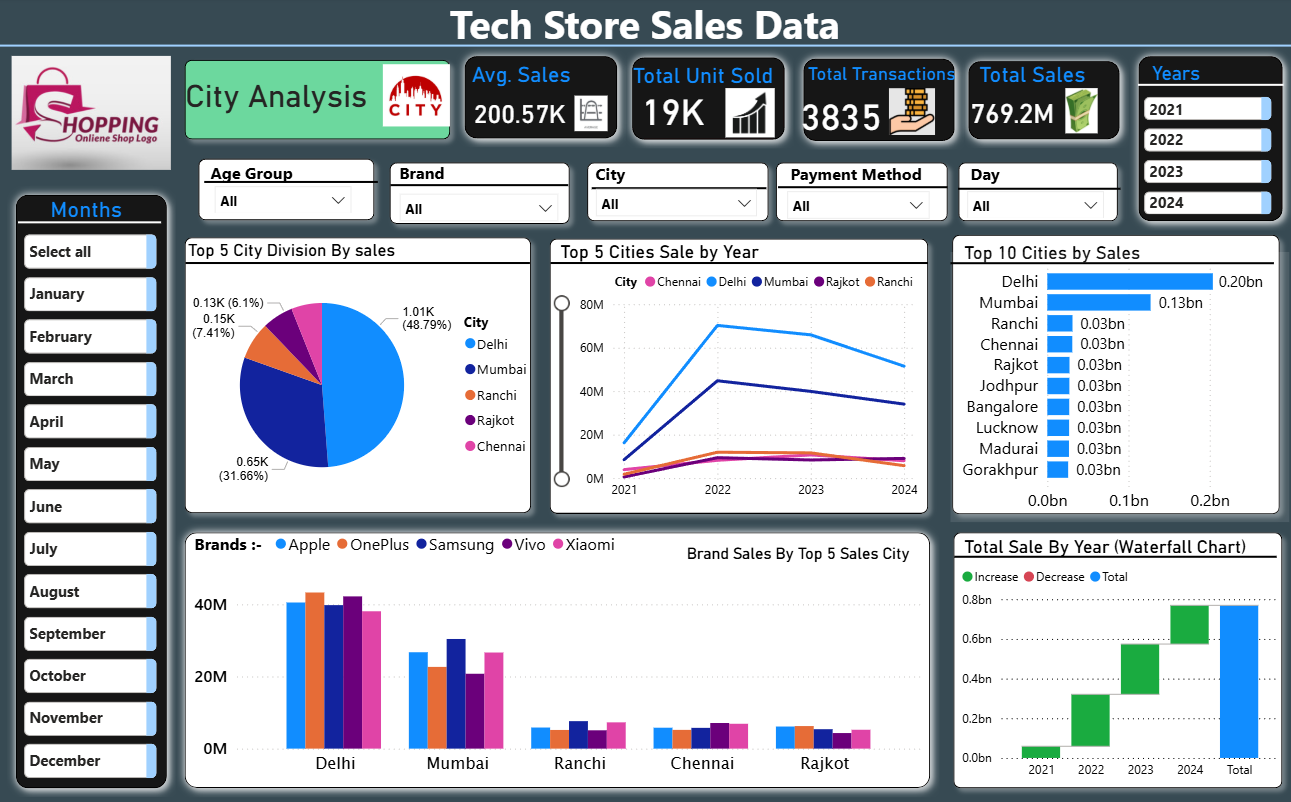

The dashboard page shown, as its layout file describes it:
{"tool":"powerbi","page":{"name":"City Analysis","canvas":[1280,800],"ordinal":1},"visuals":[{"type":"shape","title":"Tech Store Sales Data","box":[0,0,1280,53.7],"z":0},{"type":"shape","box":[0,27.4,1280,41.8],"z":1000},{"type":"image","box":[8.4,48.9,167,130],"z":2000},{"type":"shape","title":"Months","box":[8.2,186.6,167.4,605.1],"z":3000},{"type":"advancedSlicerVisual","fields":{"Values":["Mobile Sales Data.Date.Variation.Date Hierarchy.Month"]},"box":[20.6,230.5,141.3,551.6],"z":4000},{"type":"shape","title":"Months","box":[52.5,198,109.7,32.2],"z":5000},{"type":"shape","box":[20.3,214.7,142,15.5],"z":6000},{"type":"shape","box":[936.6,520.8,343.6,271.3],"z":7000},{"type":"shape","box":[175.9,53.2,280.8,96.8],"z":8000},{"type":"shape","box":[175.6,229.2,360.9,290.9],"z":9000},{"type":"shape","box":[189.5,151.3,192.2,79.1],"z":10000},{"type":"shape","title":"Months","box":[619,50.4,169.1,99.5],"z":11000},{"type":"shape","title":"Months","box":[1119.3,49.1,160.9,181.3],"z":12000},{"type":"card","fields":{"Values":["Sum(Mobile Sales Data.Units Sold)"]},"box":[627.1,77.7,81.8,66.8],"z":13000},{"type":"image","box":[703.5,85.9,80.4,58.6],"z":14000},{"type":"shape","title":"Total Unit Sold","box":[628.5,65.4,150,28.6],"z":15000},{"type":"shape","title":"Months","box":[788,51.8,167.7,99.5],"z":16000},{"type":"card","fields":{"Values":["Count(Mobile Sales Data.Transaction ID)"]},"box":[788,88.6,94.1,53.2],"z":17000},{"type":"image","box":[872.5,85.9,64.1,55.9],"z":18000},{"type":"shape","title":"Total Transactions","box":[801.6,65.4,150,21.8],"z":19000},{"type":"shape","title":"Months","box":[951.6,54.5,167.7,95.4],"z":20000},{"type":"card","fields":{"Values":["Sum(Mobile Sales Data.Sale)"]},"box":[951.6,87.3,105,53.2],"z":21000},{"type":"shape","title":"Total Sales","box":[970.7,64.1,150,21.8],"z":22000},{"type":"image","box":[1037.5,85.9,69.5,54.5],"z":23000},{"type":"slicer","fields":{"Values":["Mobile Sales Data.Age Group"]},"box":[204.5,177.2,155.4,36.8],"z":24000},{"type":"shape","title":"Months","box":[175.6,520.7,755.7,270.9],"z":25000},{"type":"shape","title":"Age Group","box":[210,162.2,151.3,24.5],"z":26000},{"type":"shape","box":[204.5,177.2,171.8,12.3],"z":27000},{"type":"shape","box":[379,154.1,196.3,79.1],"z":28000},{"type":"shape","title":"Brand","box":[396.7,162.2,150,24.5],"z":29000},{"type":"shape","box":[388.6,180,175.9,13.6],"z":30000},{"type":"slicer","fields":{"Values":["Mobile Sales Data.Brand"]},"box":[387.2,184.1,177.2,38.2],"z":31000},{"type":"shape","box":[574,154.1,197.7,76.3],"z":32000},{"type":"shape","title":"City","box":[591.7,163.6,151.3,24.5],"z":33000},{"type":"shape","box":[587.6,182.7,173.1,12.3],"z":34000},{"type":"slicer","fields":{"Values":["Mobile Sales Data.City"]},"box":[580.8,180,180,42.3],"z":35000},{"type":"shape","box":[760.7,154.1,188.1,76.3],"z":36000},{"type":"shape","title":"Payment Method","box":[783.9,163.6,150,24.5],"z":37000},{"type":"shape","box":[771.6,180,167.7,17.7],"z":38000},{"type":"slicer","fields":{"Values":["Mobile Sales Data.Payment Method"]},"box":[770.3,181.3,160.9,45],"z":39000},{"type":"shape","box":[940.7,154.1,175.9,76.3],"z":40000},{"type":"shape","title":"Day","box":[962.5,163.6,84.5,25.9],"z":41000},{"type":"shape","box":[950.2,184.1,160.9,10.9],"z":42000},{"type":"slicer","fields":{"Values":["Mobile Sales Data.Day_Name_Cleaned"]},"box":[948.9,181.3,155.4,36.8],"z":43000},{"type":"advancedSlicerVisual","fields":{"Values":["Mobile Sales Data.Year"]},"box":[1128.8,94.1,136.3,128.2],"z":44000},{"type":"shape","title":"Years","box":[1141.1,64.1,75,21.8],"z":45000},{"type":"shape","box":[1128.5,78.7,144.3,15.5],"z":46000},{"type":"pieChart","fields":{"Y":["CountNonNull(Mobile Sales Data.Transaction ID)"],"Category":["Mobile Sales Data.City"]},"box":[175.9,261.8,361.3,244],"z":47000},{"type":"shape","title":"Top 5 City Division By sales","box":[188.1,239.9,302.7,23.2],"z":48000},{"type":"shape","box":[185.4,252.2,340.8,21.8],"z":49000},{"type":"shape","box":[935.2,226.3,342.2,294.5],"z":50000},{"type":"shape","title":"Top 10 Cities by Sales","box":[955.7,242.7,175.9,20.5],"z":51000},{"type":"shape","title":"Brand Sales By Top 5 Sales City","box":[681.7,541.2,230.4,32.7],"z":52000},{"type":"waterfallChart","fields":{"Category":["Mobile Sales Data.Date.Variation.Date Hierarchy.Year"],"Y":["Sum(Mobile Sales Data.Sale)"]},"box":[948.9,553.5,324.5,229],"z":53000},{"type":"shape","title":"Total Sale By Year (Waterfall Chart)","box":[955.7,533.1,287.7,21.8],"z":54000},{"type":"shape","box":[946.2,542.6,319,21.8],"z":55000},{"type":"shape","title":"City Analysis","box":[185.4,80.4,188.1,36.8],"z":56000},{"type":"image","box":[376.3,57.3,76.3,80.4],"z":57000},{"type":"clusteredBarChart","fields":{"Category":["Mobile Sales Data.City"],"Y":["Sum(Mobile Sales Data.Sale)"]},"box":[942.1,252.2,335.4,267.2],"z":58000},{"type":"clusteredColumnChart","fields":{"Category":["Mobile Sales Data.City"],"Y":["Sum(Mobile Sales Data.Sale)"],"Series":["Mobile Sales Data.Brand"]},"box":[189.2,519.5,731,263.5],"z":59000},{"type":"shape","box":[537.2,230.4,392.6,290.4],"z":60000},{"type":"shape","title":"Months","box":[452.6,49.1,169.1,99.5],"z":61000},{"type":"shape","title":"Avg. Sales","box":[469,64.1,150,28.6],"z":62000},{"type":"card","fields":{"Values":["Avg(Mobile Sales Data.Sale)"]},"box":[462.2,81.8,107.7,66.8],"z":63000},{"type":"image","box":[564.4,92.7,46.4,45],"z":64000},{"type":"shape","title":"Top 5 Cities Sale by Year","box":[557.1,241.5,329.3,22],"z":65000},{"type":"lineChart","fields":{"Category":["Mobile Sales Data.Date.Variation.Date Hierarchy.Year"],"Y":["Sum(Mobile Sales Data.Sale)"],"Series":["Mobile Sales Data.City"]},"box":[546.7,261.8,368.1,244],"z":66000},{"type":"shape","box":[546.7,252.2,373.6,21.8],"z":67000},{"type":"shape","box":[942.1,257.7,320.4,12.3],"z":68000}]}

Visuals, with their boxes in screenshot pixels (x1, y1, x2, y2), scaled from the page's 1280x800 canvas onto the 1291x802 screenshot:
"Tech Store Sales Data" shape: {"x1": 0, "y1": 0, "x2": 1290, "y2": 54}
shape: {"x1": 0, "y1": 27, "x2": 1290, "y2": 69}
image: {"x1": 8, "y1": 49, "x2": 177, "y2": 179}
"Months" shape: {"x1": 8, "y1": 187, "x2": 177, "y2": 794}
advancedSlicerVisual - Mobile Sales Data.Date.Variation.Date Hierarchy.Month: {"x1": 21, "y1": 231, "x2": 163, "y2": 784}
"Months" shape: {"x1": 53, "y1": 198, "x2": 164, "y2": 231}
shape: {"x1": 20, "y1": 215, "x2": 164, "y2": 231}
shape: {"x1": 945, "y1": 522, "x2": 1290, "y2": 794}
shape: {"x1": 177, "y1": 53, "x2": 461, "y2": 150}
shape: {"x1": 177, "y1": 230, "x2": 541, "y2": 521}
shape: {"x1": 191, "y1": 152, "x2": 385, "y2": 231}
"Months" shape: {"x1": 624, "y1": 51, "x2": 795, "y2": 150}
"Months" shape: {"x1": 1129, "y1": 49, "x2": 1290, "y2": 231}
card - Sum(Mobile Sales Data.Units Sold): {"x1": 632, "y1": 78, "x2": 715, "y2": 145}
image: {"x1": 710, "y1": 86, "x2": 791, "y2": 145}
"Total Unit Sold" shape: {"x1": 634, "y1": 66, "x2": 785, "y2": 94}
"Months" shape: {"x1": 795, "y1": 52, "x2": 964, "y2": 152}
card - Count(Mobile Sales Data.Transaction ID): {"x1": 795, "y1": 89, "x2": 890, "y2": 142}
image: {"x1": 880, "y1": 86, "x2": 945, "y2": 142}
"Total Transactions" shape: {"x1": 808, "y1": 66, "x2": 960, "y2": 87}
"Months" shape: {"x1": 960, "y1": 55, "x2": 1129, "y2": 150}
card - Sum(Mobile Sales Data.Sale): {"x1": 960, "y1": 88, "x2": 1066, "y2": 141}
"Total Sales" shape: {"x1": 979, "y1": 64, "x2": 1130, "y2": 86}
image: {"x1": 1046, "y1": 86, "x2": 1117, "y2": 141}
slicer - Mobile Sales Data.Age Group: {"x1": 206, "y1": 178, "x2": 363, "y2": 215}
"Months" shape: {"x1": 177, "y1": 522, "x2": 939, "y2": 794}
"Age Group" shape: {"x1": 212, "y1": 163, "x2": 364, "y2": 187}
shape: {"x1": 206, "y1": 178, "x2": 380, "y2": 190}
shape: {"x1": 382, "y1": 154, "x2": 580, "y2": 234}
"Brand" shape: {"x1": 400, "y1": 163, "x2": 551, "y2": 187}
shape: {"x1": 392, "y1": 180, "x2": 569, "y2": 194}
slicer - Mobile Sales Data.Brand: {"x1": 391, "y1": 185, "x2": 569, "y2": 223}
shape: {"x1": 579, "y1": 154, "x2": 778, "y2": 231}
"City" shape: {"x1": 597, "y1": 164, "x2": 749, "y2": 189}
shape: {"x1": 593, "y1": 183, "x2": 767, "y2": 195}
slicer - Mobile Sales Data.City: {"x1": 586, "y1": 180, "x2": 767, "y2": 223}
shape: {"x1": 767, "y1": 154, "x2": 957, "y2": 231}
"Payment Method" shape: {"x1": 791, "y1": 164, "x2": 942, "y2": 189}
shape: {"x1": 778, "y1": 180, "x2": 947, "y2": 198}
slicer - Mobile Sales Data.Payment Method: {"x1": 777, "y1": 182, "x2": 939, "y2": 227}
shape: {"x1": 949, "y1": 154, "x2": 1126, "y2": 231}
"Day" shape: {"x1": 971, "y1": 164, "x2": 1056, "y2": 190}
shape: {"x1": 958, "y1": 185, "x2": 1121, "y2": 195}
slicer - Mobile Sales Data.Day_Name_Cleaned: {"x1": 957, "y1": 182, "x2": 1114, "y2": 219}
advancedSlicerVisual - Mobile Sales Data.Year: {"x1": 1139, "y1": 94, "x2": 1276, "y2": 223}
"Years" shape: {"x1": 1151, "y1": 64, "x2": 1227, "y2": 86}
shape: {"x1": 1138, "y1": 79, "x2": 1284, "y2": 94}
pieChart - CountNonNull(Mobile Sales Data.Transaction ID) x Mobile Sales Data.City: {"x1": 177, "y1": 262, "x2": 542, "y2": 507}
"Top 5 City Division By sales" shape: {"x1": 190, "y1": 240, "x2": 495, "y2": 264}
shape: {"x1": 187, "y1": 253, "x2": 531, "y2": 275}
shape: {"x1": 943, "y1": 227, "x2": 1288, "y2": 522}
"Top 10 Cities by Sales" shape: {"x1": 964, "y1": 243, "x2": 1141, "y2": 264}
"Brand Sales By Top 5 Sales City" shape: {"x1": 688, "y1": 543, "x2": 920, "y2": 575}
waterfallChart - Mobile Sales Data.Date.Variation.Date Hierarchy.Year x Sum(Mobile Sales Data.Sale): {"x1": 957, "y1": 555, "x2": 1284, "y2": 784}
"Total Sale By Year (Waterfall Chart)" shape: {"x1": 964, "y1": 534, "x2": 1254, "y2": 556}
shape: {"x1": 954, "y1": 544, "x2": 1276, "y2": 566}
"City Analysis" shape: {"x1": 187, "y1": 81, "x2": 377, "y2": 117}
image: {"x1": 380, "y1": 57, "x2": 456, "y2": 138}
clusteredBarChart - Mobile Sales Data.City x Sum(Mobile Sales Data.Sale): {"x1": 950, "y1": 253, "x2": 1288, "y2": 521}
clusteredColumnChart - Mobile Sales Data.City x Sum(Mobile Sales Data.Sale): {"x1": 191, "y1": 521, "x2": 928, "y2": 785}
shape: {"x1": 542, "y1": 231, "x2": 938, "y2": 522}
"Months" shape: {"x1": 456, "y1": 49, "x2": 627, "y2": 149}
"Avg. Sales" shape: {"x1": 473, "y1": 64, "x2": 624, "y2": 93}
card - Avg(Mobile Sales Data.Sale): {"x1": 466, "y1": 82, "x2": 575, "y2": 149}
image: {"x1": 569, "y1": 93, "x2": 616, "y2": 138}
"Top 5 Cities Sale by Year" shape: {"x1": 562, "y1": 242, "x2": 894, "y2": 264}
lineChart - Mobile Sales Data.Date.Variation.Date Hierarchy.Year x Sum(Mobile Sales Data.Sale): {"x1": 551, "y1": 262, "x2": 923, "y2": 507}
shape: {"x1": 551, "y1": 253, "x2": 928, "y2": 275}
shape: {"x1": 950, "y1": 258, "x2": 1273, "y2": 271}
